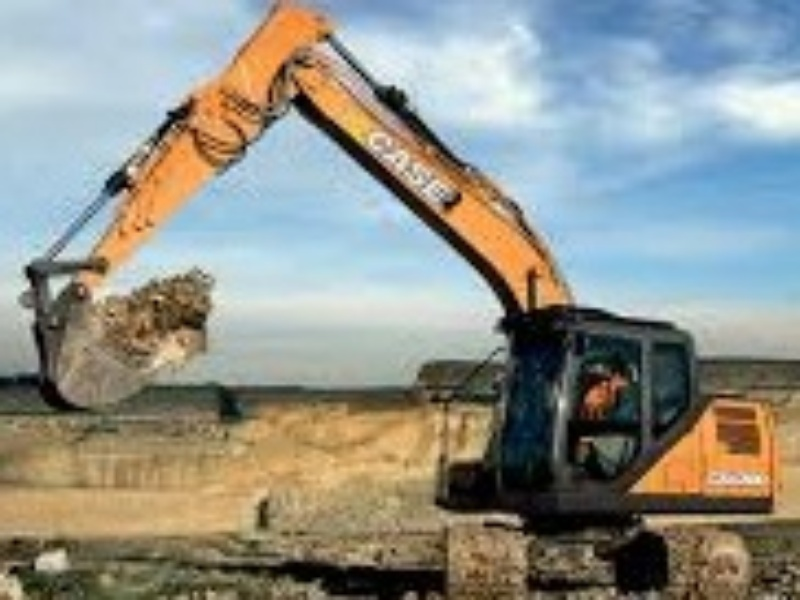wajueji: (371, 230, 789, 600)
